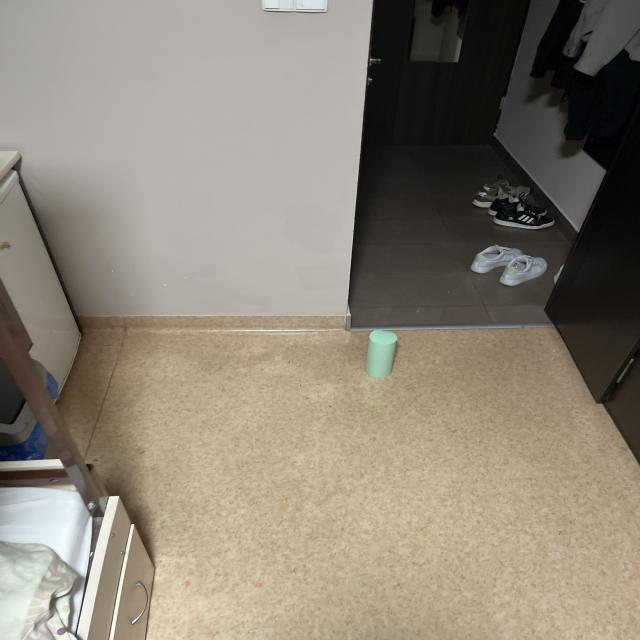meta: (366, 330, 398, 378)
